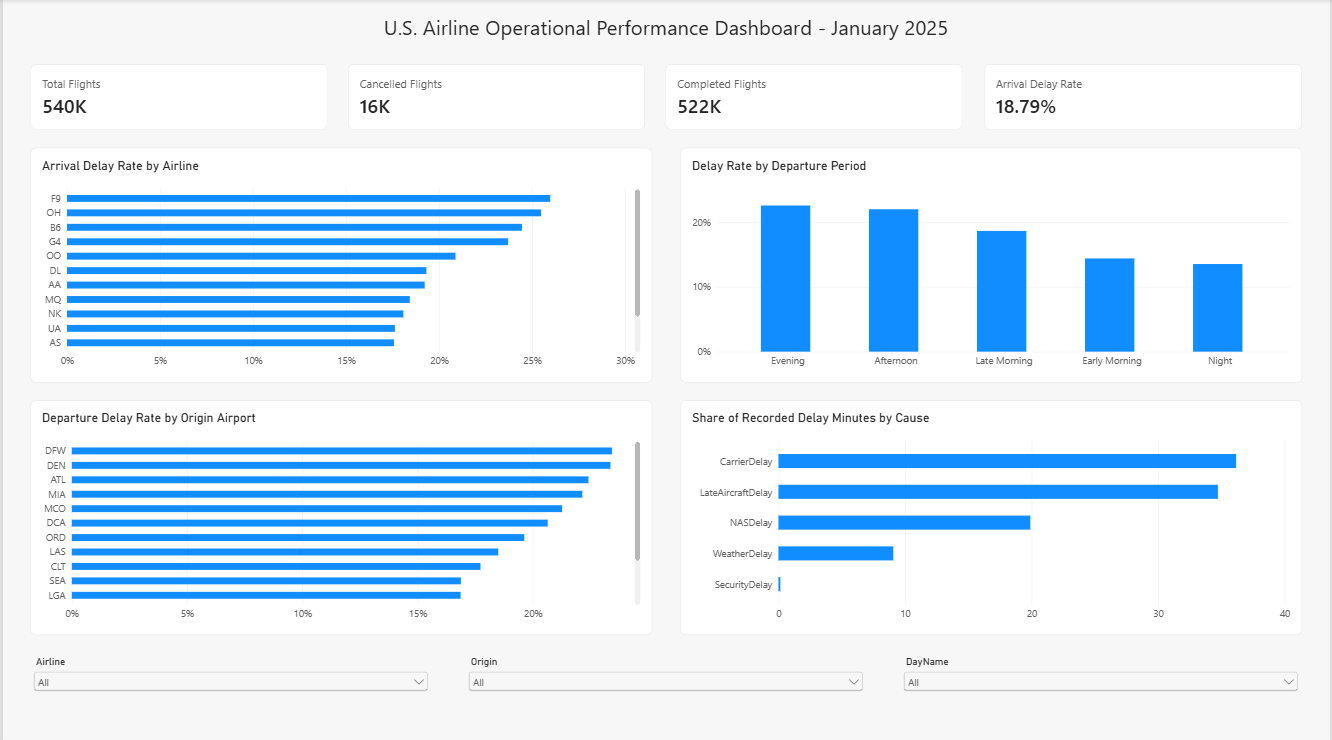

This screenshot's page, from the dashboard's own definition file:
{"tool":"powerbi","page":{"name":"Page 1","canvas":[1920,1080],"ordinal":0},"visuals":[{"type":"cardVisual","title":"Total Flights","fields":{"Data":["Sum(BTS_Jan2025_clean.Flights)"]},"box":[40,95,430,95],"z":0},{"type":"cardVisual","title":"Cancelled Flights","fields":{"Data":["Sum(BTS_Jan2025_clean.IsCancelled)"]},"box":[500,95,430,95],"z":1},{"type":"cardVisual","title":"Completed Flights","fields":{"Data":["Sum(BTS_Jan2025_clean.CompletedFlight)"]},"box":[960,95,430,95],"z":2},{"type":"cardVisual","title":"Arrival Delay Rate","fields":{"Data":["Avg(BTS_Jan2025_clean.IsArrivalDelayed15)"]},"box":[1420,95,460,95],"z":3},{"type":"clusteredBarChart","title":"Arrival Delay Rate by Airline","fields":{"Category":["BTS_Jan2025_clean.Airline"],"Y":["Avg(BTS_Jan2025_clean.IsArrivalDelayed15)"]},"box":[40,215,900,340],"z":4},{"type":"clusteredColumnChart","title":"Delay Rate by Departure Period","fields":{"Category":["BTS_Jan2025_clean.DeparturePeriod"],"Y":["Avg(BTS_Jan2025_clean.IsArrivalDelayed15)"]},"box":[980,215,900,340],"z":5},{"type":"clusteredBarChart","title":"Departure Delay Rate by Origin Airport","fields":{"Category":["BTS_Jan2025_clean.Origin"],"Y":["Avg(BTS_Jan2025_clean.IsDepartureDelayed15)"]},"box":[40,580,900,340],"z":6},{"type":"clusteredBarChart","title":"Share of Recorded Delay Minutes by Cause","fields":{"Category":["delay_cause_totals.delay_cause"],"Y":["Sum(delay_cause_totals.share_pct)"]},"box":[980,580,900,340],"z":7},{"type":"slicer","fields":{"Values":["BTS_Jan2025_clean.Airline"]},"box":[40,950,580,70],"z":8},{"type":"slicer","fields":{"Values":["BTS_Jan2025_clean.Origin"]},"box":[670,950,580,70],"z":9},{"type":"slicer","fields":{"Values":["BTS_Jan2025_clean.DayName"]},"box":[1300,950,580,70],"z":10},{"type":"textbox","box":[40,20,1840,55],"z":11}]}

Visuals, with their boxes in screenshot pixels (x1, y1, x2, y2), scaled from the page's 1920x1080 canvas onto the 1332x740 screenshot:
"Total Flights" cardVisual: detection(28, 65, 326, 130)
"Cancelled Flights" cardVisual: detection(347, 65, 645, 130)
"Completed Flights" cardVisual: detection(666, 65, 964, 130)
"Arrival Delay Rate" cardVisual: detection(985, 65, 1304, 130)
"Arrival Delay Rate by Airline" clusteredBarChart: detection(28, 147, 652, 380)
"Delay Rate by Departure Period" clusteredColumnChart: detection(680, 147, 1304, 380)
"Departure Delay Rate by Origin Airport" clusteredBarChart: detection(28, 397, 652, 630)
"Share of Recorded Delay Minutes by Cause" clusteredBarChart: detection(680, 397, 1304, 630)
slicer - BTS_Jan2025_clean.Airline: detection(28, 651, 430, 699)
slicer - BTS_Jan2025_clean.Origin: detection(465, 651, 867, 699)
slicer - BTS_Jan2025_clean.DayName: detection(902, 651, 1304, 699)
textbox: detection(28, 14, 1304, 51)
